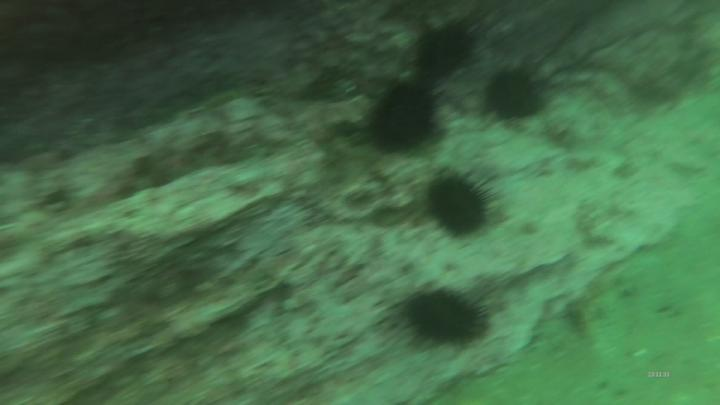echinus: (397, 285, 497, 358), (366, 69, 446, 157), (422, 160, 500, 244), (479, 62, 551, 128), (414, 23, 482, 85)
